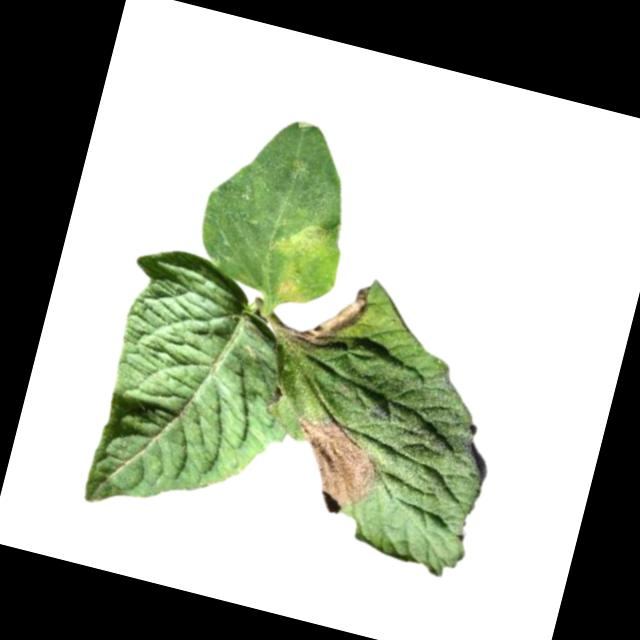Late_blight: (279, 411, 391, 522), (259, 213, 348, 315), (284, 269, 376, 360)
